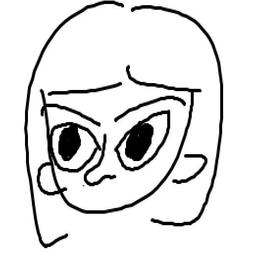ear: (172, 144, 212, 185), (33, 162, 60, 199)
eye: (112, 106, 173, 173), (49, 121, 98, 174)
frowning_eyebrow: (112, 95, 185, 122), (39, 101, 101, 128)
nose: (85, 132, 115, 191)
